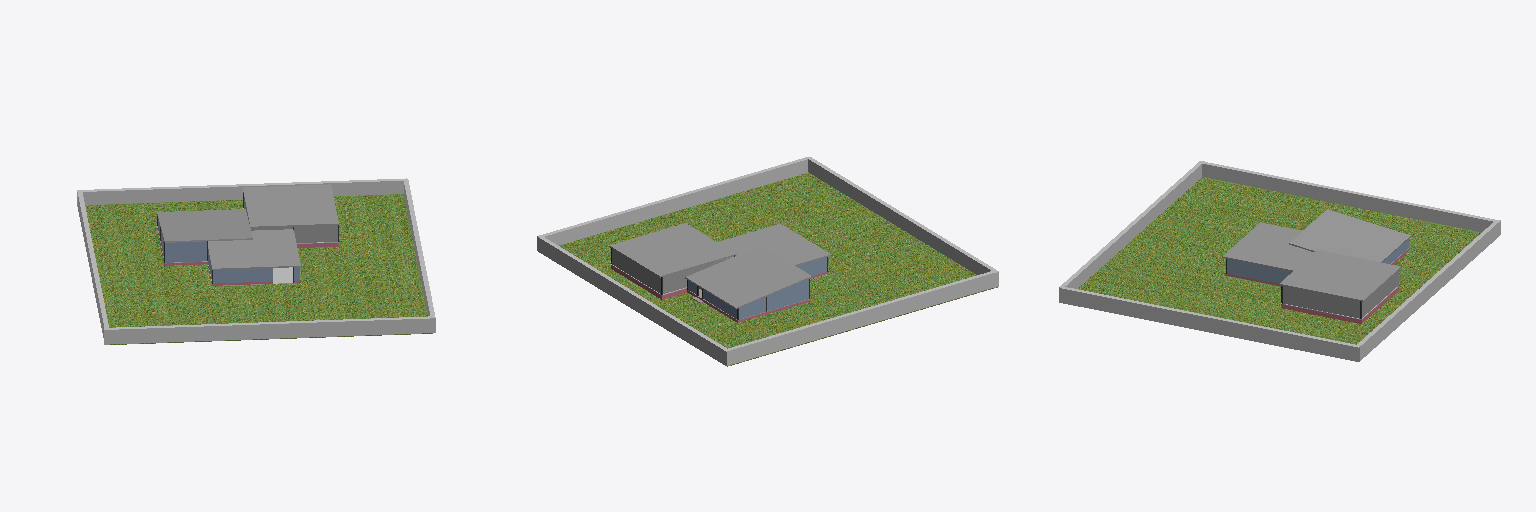
3 renders of one model, left to right at view 1: azimuth 30°, elevation 25°; view 2: azimuth 150°, elevation 25°; view 3: azimuth 270°, elevation 25°, orthographic.
Visible parts, largest first — view 1: Patio_Cube, PatioWalls_Cube.017, Cube.001_Cube.029, StudyRoof_Cube.007, GreatroomRoof_Cube.008, SunroomRoof_Cube.006, Cube.003_Cube.039, Cube.002_Cube.038, StudyWalls_Cube.032, SunroomGlassInside_Mesh.004, GreatroomGlassInter_Cube.034; view 2: Patio_Cube, Cube.003_Cube.039, SunroomRoof_Cube.006, Cube.002_Cube.038, StudyRoof_Cube.007, Cube.001_Cube.029, PatioWalls_Cube.017, GreatroomRoof_Cube.008, StudyWalls_Cube.032, SunroomGlassInside_Mesh.004; view 3: Patio_Cube, Cube.002_Cube.038, Cube.003_Cube.039, StudyRoof_Cube.007, SunroomRoof_Cube.006, Cube.001_Cube.029, GreatroomRoof_Cube.008, PatioWalls_Cube.017, StudyWalls_Cube.032, GreatroomGlassInter_Cube.034.
Part boxes in pixels (left/top/right/bottom): Patio_Cube: left=85, top=194, right=432, bottom=344; PatioWalls_Cube.017: left=104, top=316, right=433, bottom=344; Cube.001_Cube.029: left=77, top=178, right=406, bottom=206; StudyRoof_Cube.007: left=243, top=184, right=338, bottom=227; GreatroomRoof_Cube.008: left=208, top=229, right=300, bottom=269; SunroomRoof_Cube.006: left=157, top=209, right=252, bottom=242; Cube.003_Cube.039: left=77, top=190, right=109, bottom=337; Cube.002_Cube.038: left=404, top=179, right=435, bottom=332; StudyWalls_Cube.032: left=244, top=198, right=337, bottom=242; SunroomGlassInside_Mesh.004: left=158, top=220, right=206, bottom=262; GreatroomGlassInter_Cube.034: left=208, top=251, right=299, bottom=283; Patio_Cube: left=559, top=172, right=997, bottom=366; Cube.003_Cube.039: left=725, top=270, right=997, bottom=364; SunroomRoof_Cube.006: left=685, top=245, right=811, bottom=308; Cube.002_Cube.038: left=537, top=157, right=810, bottom=250; StudyRoof_Cube.007: left=609, top=223, right=736, bottom=277; Cube.001_Cube.029: left=538, top=236, right=730, bottom=365; PatioWalls_Cube.017: left=807, top=157, right=998, bottom=287; GreatroomRoof_Cube.008: left=718, top=224, right=830, bottom=265; StudyWalls_Cube.032: left=612, top=249, right=733, bottom=293; SunroomGlassInside_Mesh.004: left=688, top=279, right=808, bottom=319; Patio_Cube: left=1078, top=177, right=1481, bottom=344; Cube.002_Cube.038: left=1059, top=286, right=1359, bottom=361; Cube.003_Cube.039: left=1199, top=161, right=1499, bottom=231; StudyRoof_Cube.007: left=1279, top=250, right=1400, bottom=301; SunroomRoof_Cube.006: left=1289, top=209, right=1410, bottom=262; Cube.001_Cube.029: left=1357, top=220, right=1500, bottom=361; GreatroomRoof_Cube.008: left=1222, top=222, right=1313, bottom=271; PatioWalls_Cube.017: left=1059, top=161, right=1204, bottom=288; StudyWalls_Cube.032: left=1283, top=271, right=1398, bottom=318; GreatroomGlassInter_Cube.034: left=1227, top=259, right=1290, bottom=283.
Bounding box in the file's own units: 176 × 12.08 × 176.
8 materials, 1 textured.